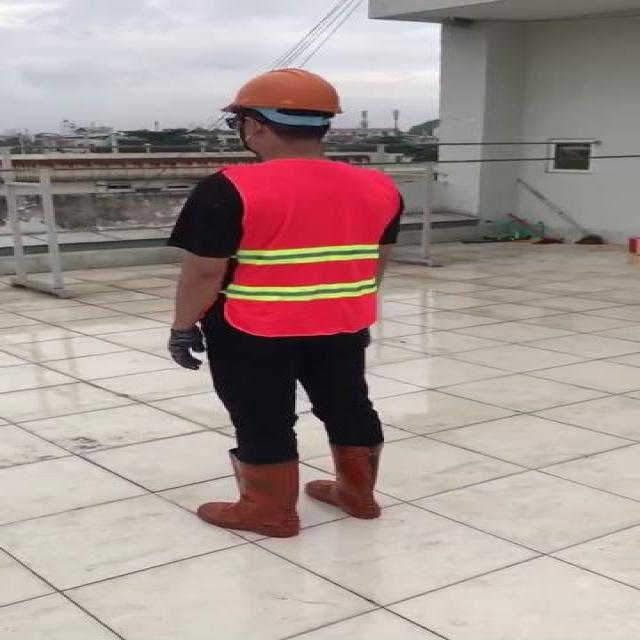boots: (196, 452, 300, 540), (306, 442, 394, 518)
hand_glove: (165, 327, 210, 370)
head_helmet: (220, 65, 342, 113)
person: (159, 61, 413, 546)
vest: (213, 158, 400, 336)
